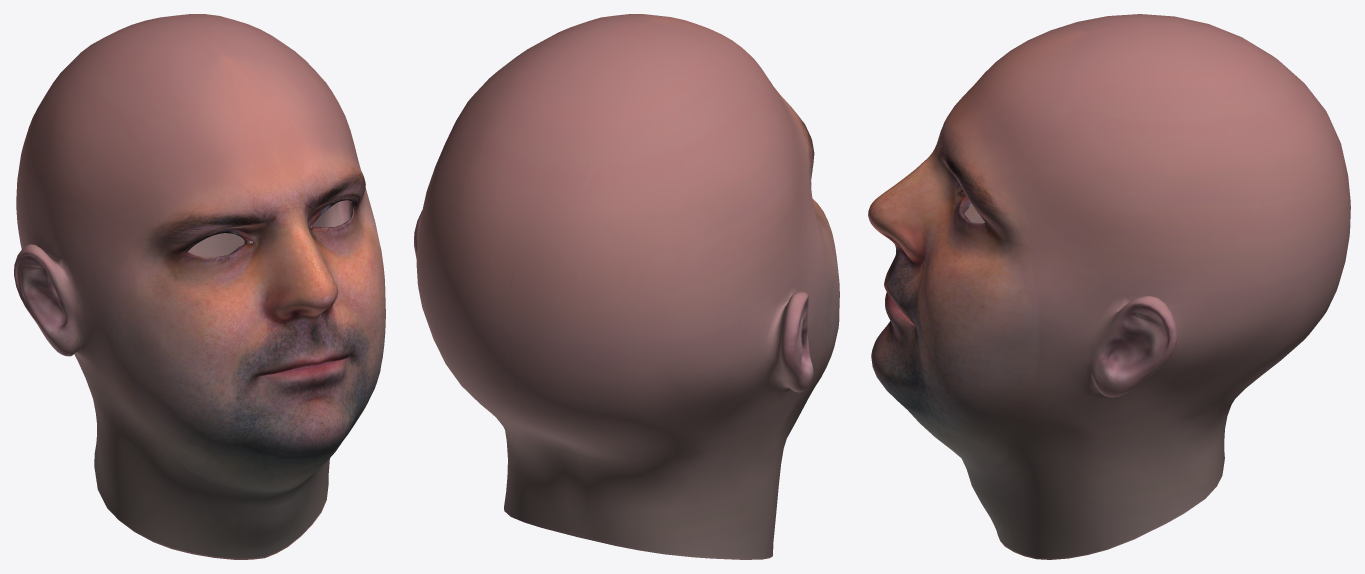
3 views of the same model, side by side, from view 1: azimuth 30°, elevation 25°; view 2: azimuth 150°, elevation 25°; view 3: azimuth 270°, elevation 25° (orthographic). The views are drawn at different scales.
Parts seen in each view (by area): view 1: FaceGen; view 2: FaceGen; view 3: FaceGen.
Part boxes in pixels (x1,y1,x2,y2): FaceGen: (14,14,385,559); FaceGen: (414,14,839,559); FaceGen: (868,14,1350,559).
Size of the model in its own units: 203 by 276 by 238.
1 material, 1 textured.
